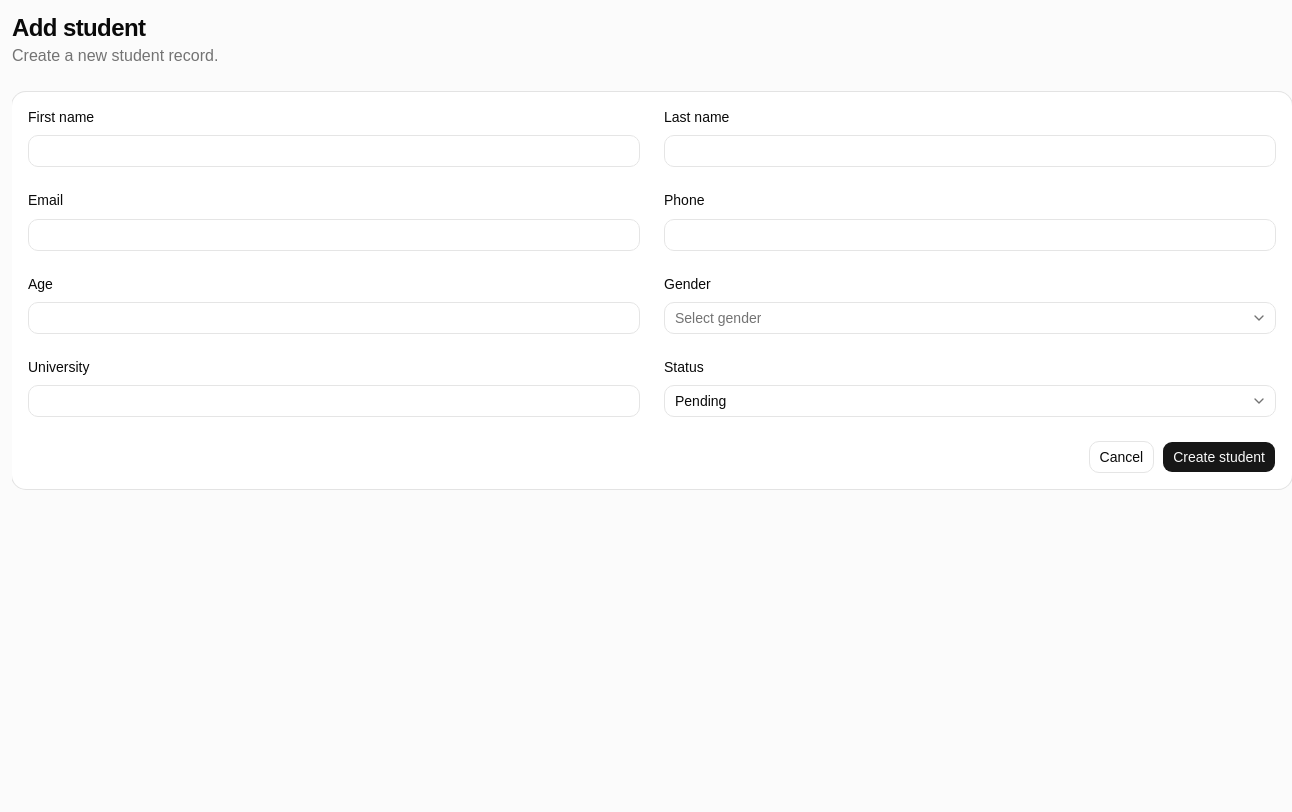
it: Create student › shows validation errors and does not submit an empty form
Step 1. Click the button "Create student" → click(1219, 457), box [1162,441,1276,473]
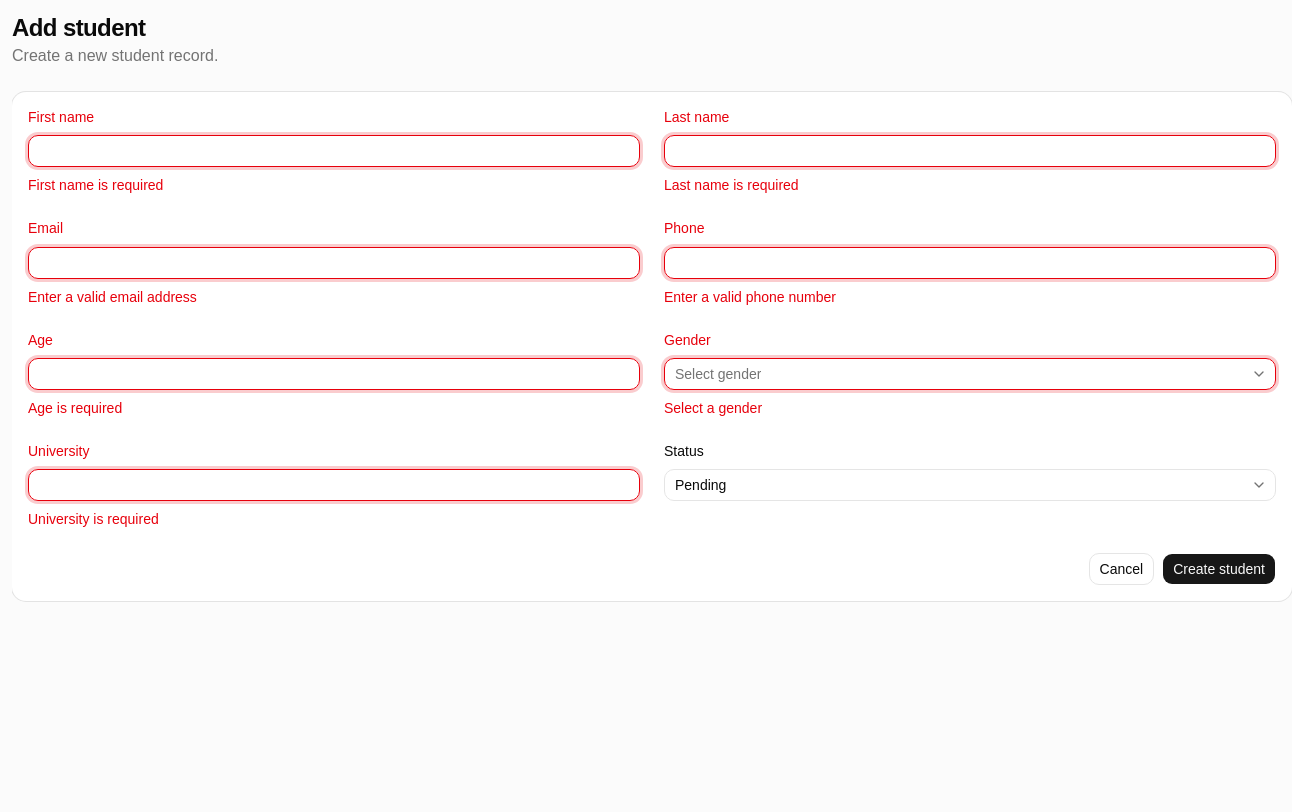
Expected: the text "First name is required" is shown, [28,177,163,193]
Expected: the text "Enter a valid email address" is shown, [28,288,197,304]
Expected: the text "Age is required" is shown, [28,400,122,416]
